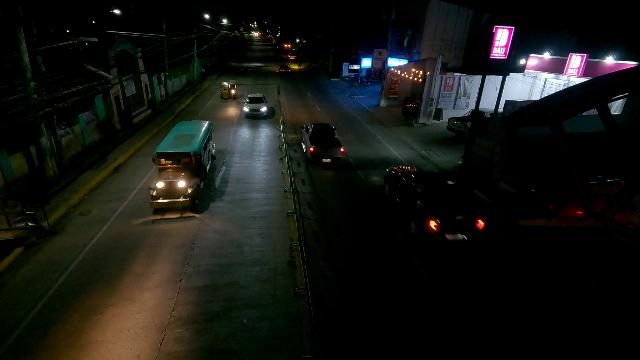car: (388, 165, 484, 240), (243, 93, 267, 116)
jeepney: (150, 119, 215, 213)
truck: (302, 122, 346, 162)
